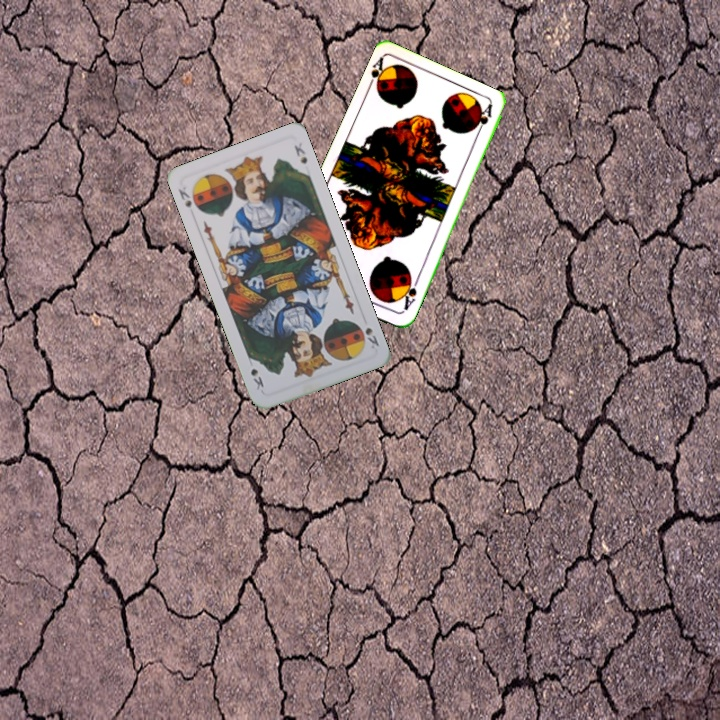SA: (363, 53, 392, 95), (397, 274, 421, 315)
SK: (361, 323, 382, 351), (174, 183, 194, 212)
